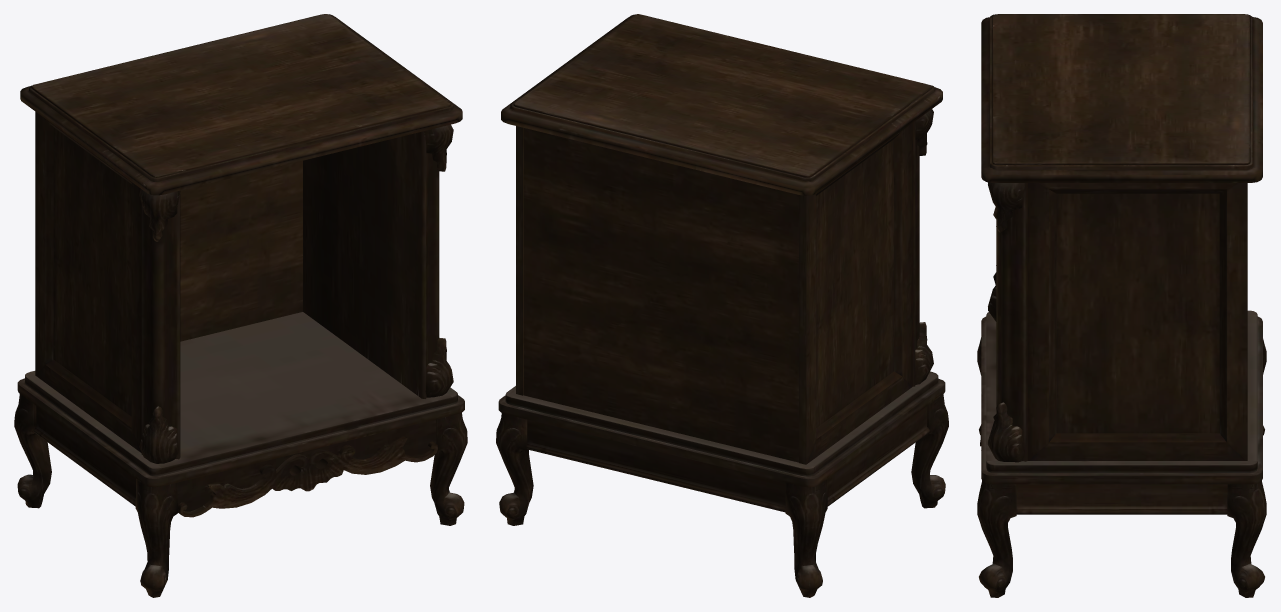
Rendered from classic_nightstand_01.glb.
3 renders of one model, left to right at view 1: azimuth 30°, elevation 25°; view 2: azimuth 150°, elevation 25°; view 3: azimuth 270°, elevation 25°, orthographic. The views are drawn at different scales.
Parts seen in each view (by area): view 1: ClassicNightstand_01; view 2: ClassicNightstand_01; view 3: ClassicNightstand_01.
Part boxes in pixels (bbox=[...]): ClassicNightstand_01: bbox=[14, 14, 467, 597]; ClassicNightstand_01: bbox=[496, 14, 948, 597]; ClassicNightstand_01: bbox=[977, 14, 1266, 597].
Bounding box in the file's own units: 0.5678 × 0.7 × 0.4242.
1 material, 1 textured.
